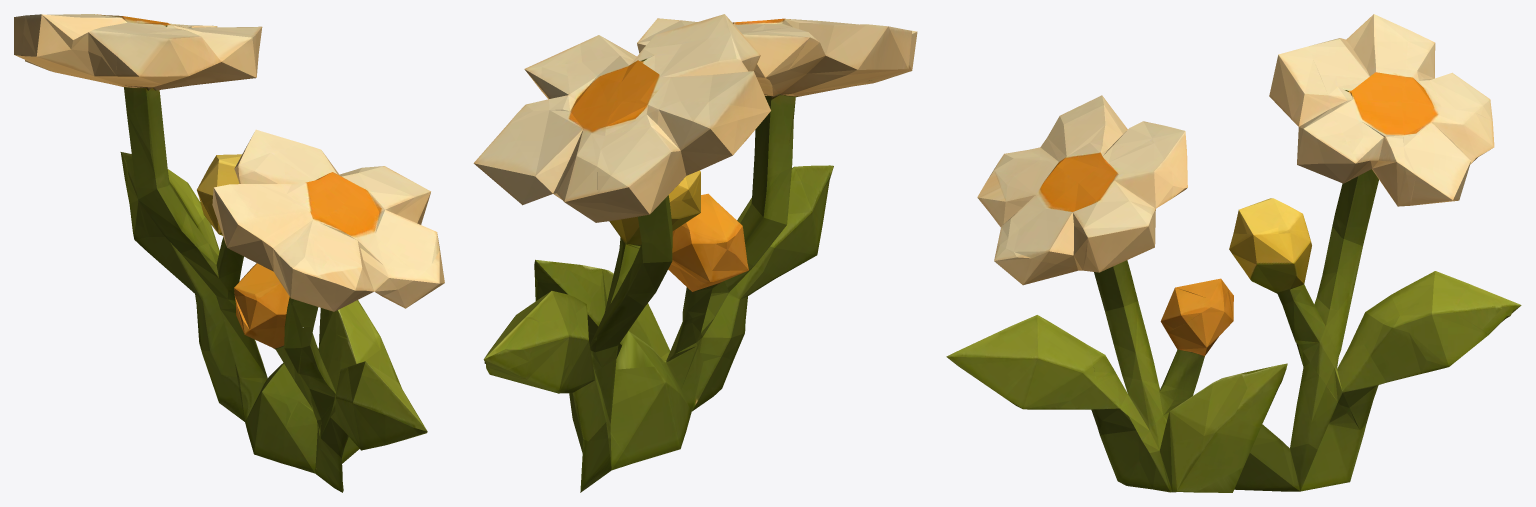
The model's file is KeepSakeFlower-v1.glb.
3 views of the same model, side by side, from view 1: azimuth 30°, elevation 25°; view 2: azimuth 150°, elevation 25°; view 3: azimuth 270°, elevation 25° (orthographic). The views are drawn at different scales.
Parts seen in each view (by area): view 1: tripo_node_39dde8d2-b809-44cc-87ef-4f3737426d95; view 2: tripo_node_39dde8d2-b809-44cc-87ef-4f3737426d95; view 3: tripo_node_39dde8d2-b809-44cc-87ef-4f3737426d95.
Part boxes in pixels (left/top/right/bottom): tripo_node_39dde8d2-b809-44cc-87ef-4f3737426d95: left=14, top=14, right=444, bottom=492; tripo_node_39dde8d2-b809-44cc-87ef-4f3737426d95: left=473, top=14, right=917, bottom=492; tripo_node_39dde8d2-b809-44cc-87ef-4f3737426d95: left=946, top=14, right=1521, bottom=492.
Bounding box in the file's own units: 0.5038 × 0.7408 × 0.9804.
1 material, 1 textured.
